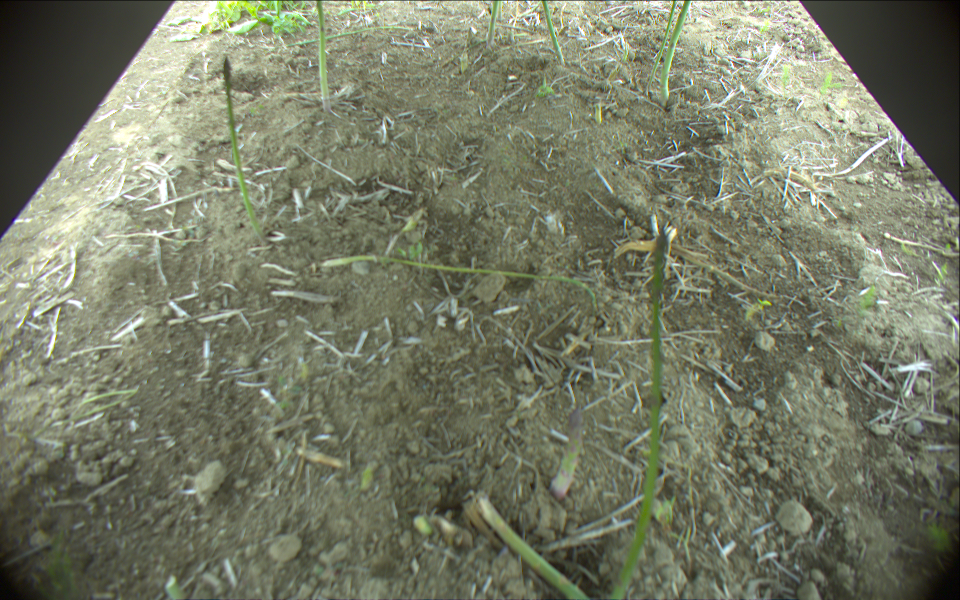aspa: (601, 226, 669, 600), (321, 258, 597, 310), (484, 494, 603, 600), (222, 55, 267, 236), (281, 26, 413, 51), (663, 1, 693, 99), (553, 406, 585, 497), (308, 1, 333, 111), (647, 1, 676, 91), (539, 1, 564, 62), (486, 1, 498, 44), (592, 93, 603, 123)
